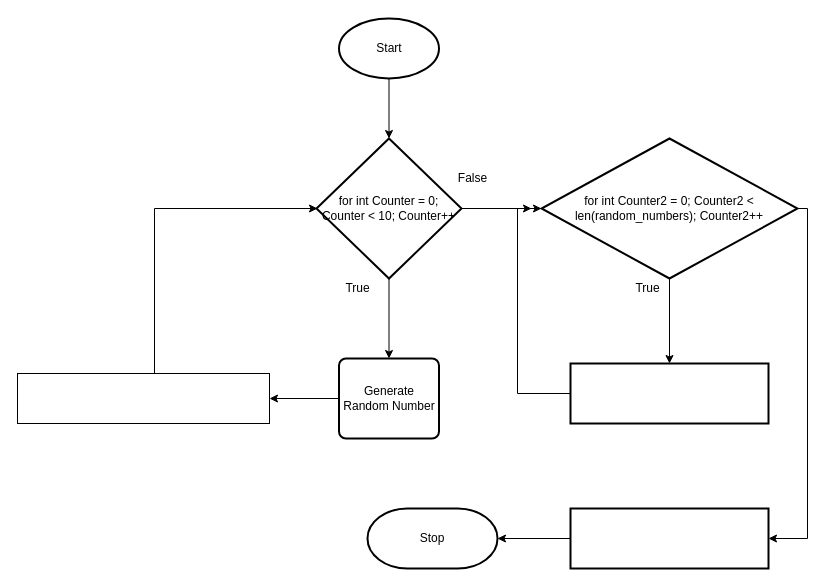
Image size: 833x586. Some labels were removed from this diagram. The centre of each missing label's shape, as x and y in pixels:
"numbers_average = numbers_average / len(random_numbers)" goes at pixel 669 538.
"numbers_average = random_numbers[Counter2] + numbers_average" goes at pixel 669 393.
"random_numbers.append(random_number)" goes at pixel 143 398.
